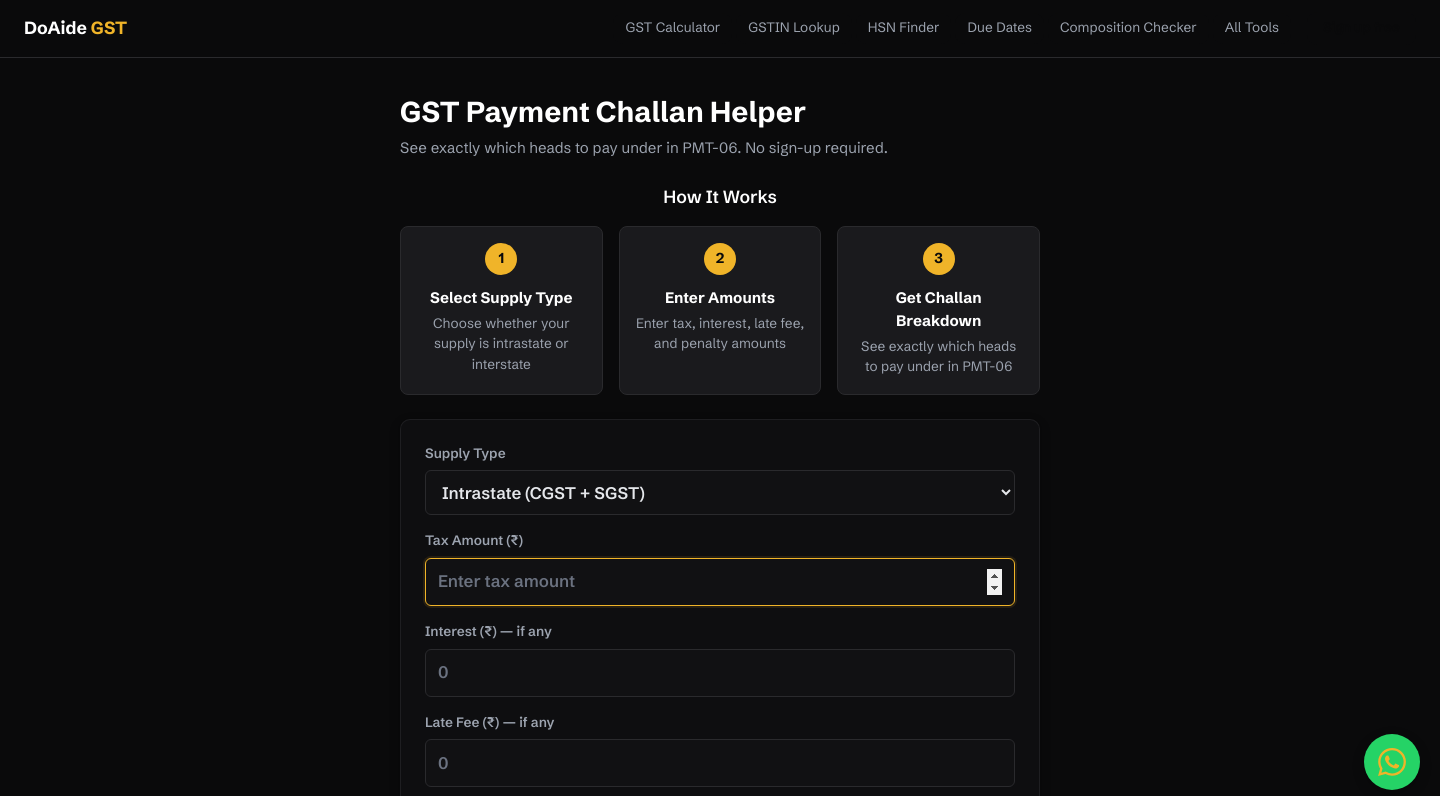
it: PaymentChallanPage › includes cess as separate head
Step 1. Type "10000" into the number field with placeholder "Enter tax amount" → x=720, y=582, box [425, 558, 1015, 606]
(page scrolled)
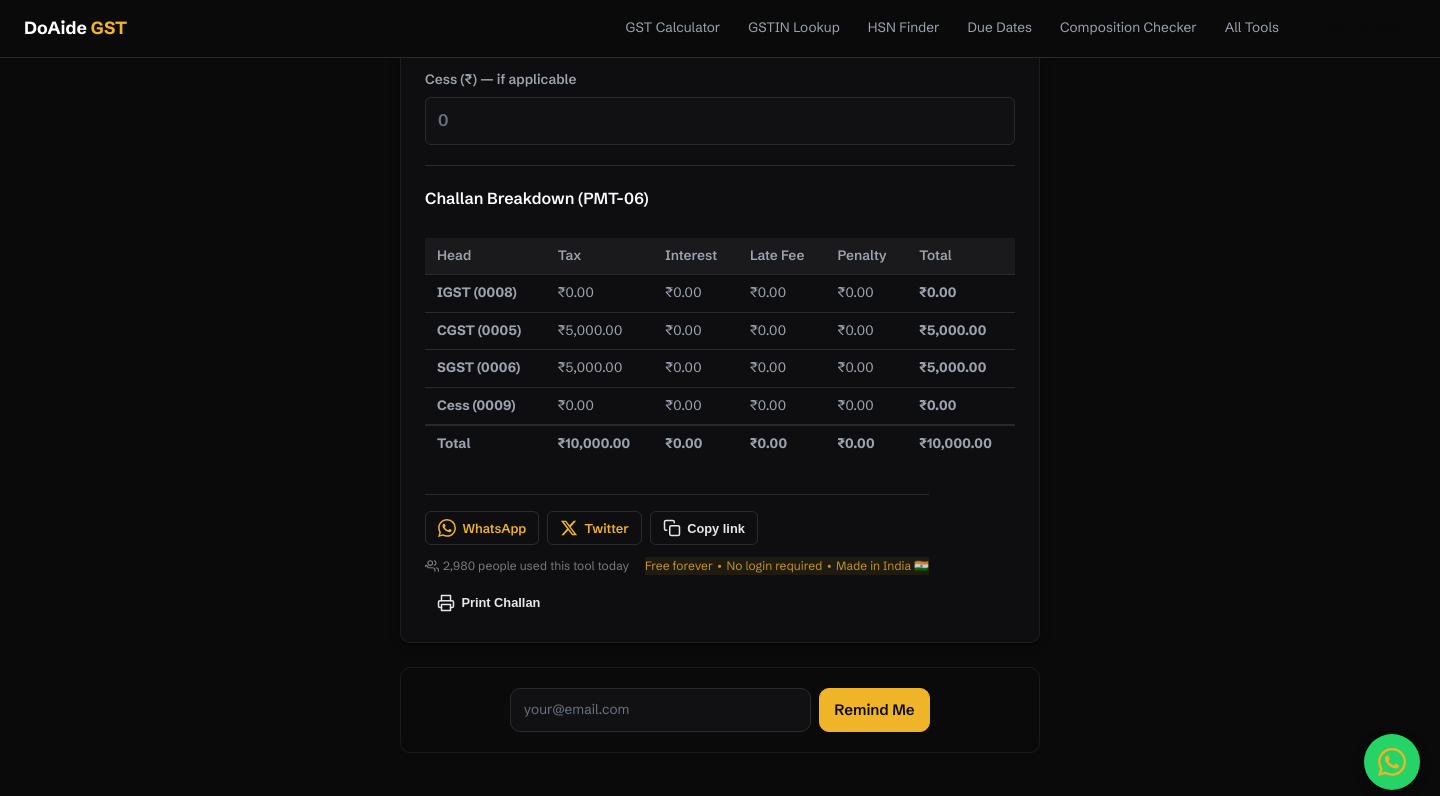
Expected: the text "Cess (0009)" is shown, [437, 396, 516, 414]
